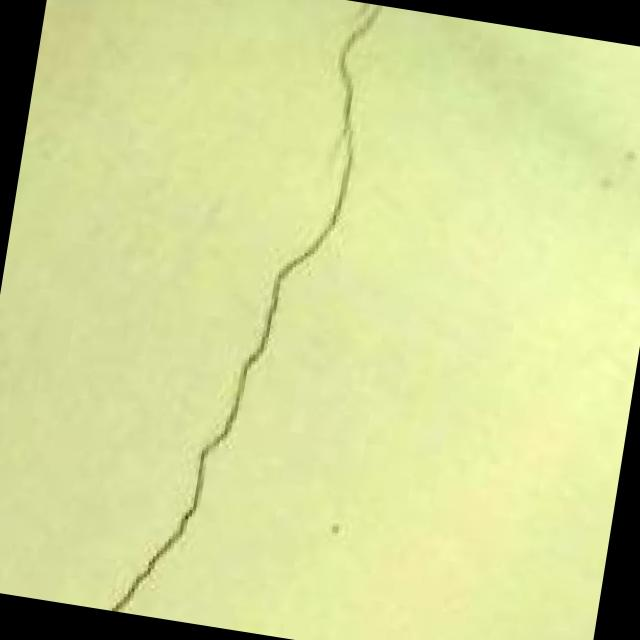crack: (109, 0, 391, 636)
